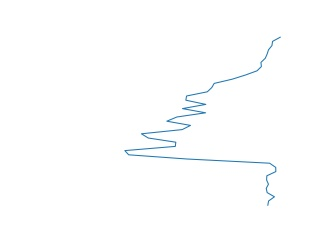proximalDeepseaFan: (121, 33, 285, 208)
